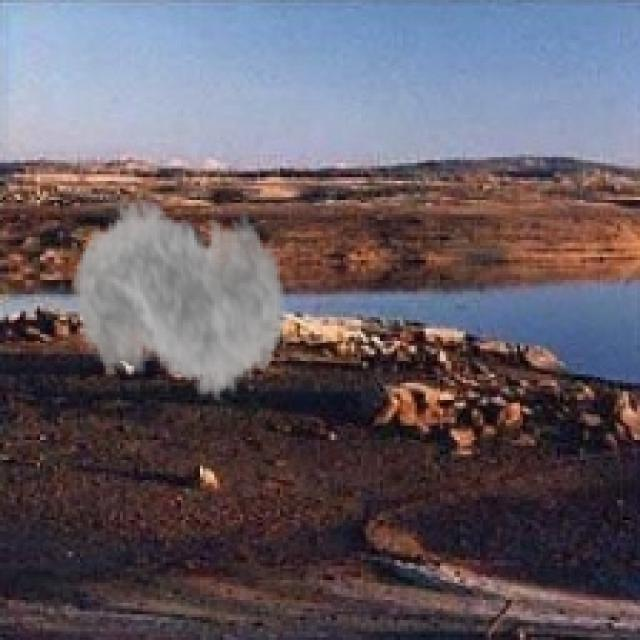Smoke: (72, 174, 288, 417)
